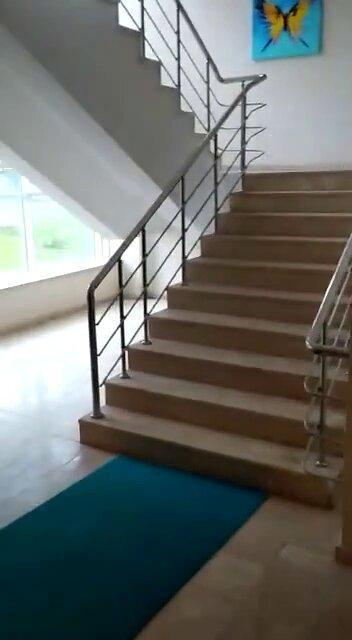Bench: (171, 82, 324, 475)
